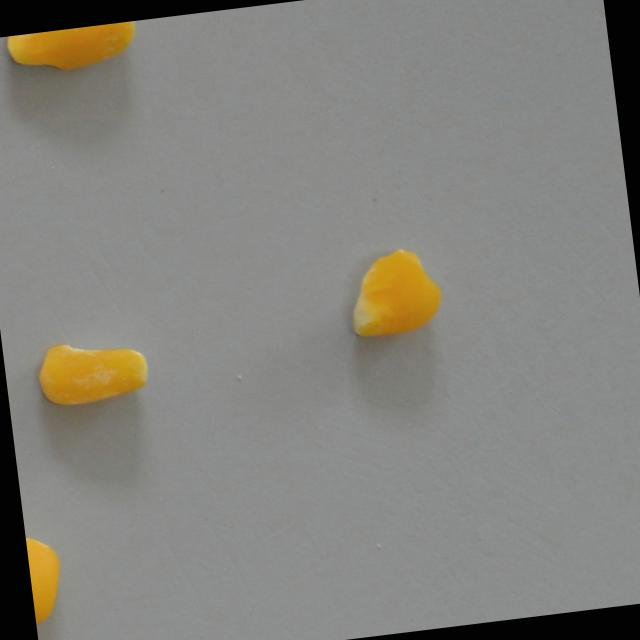estandar: (341, 243, 447, 343), (28, 331, 153, 413), (23, 520, 75, 630)
pelicula: (2, 20, 142, 94)
